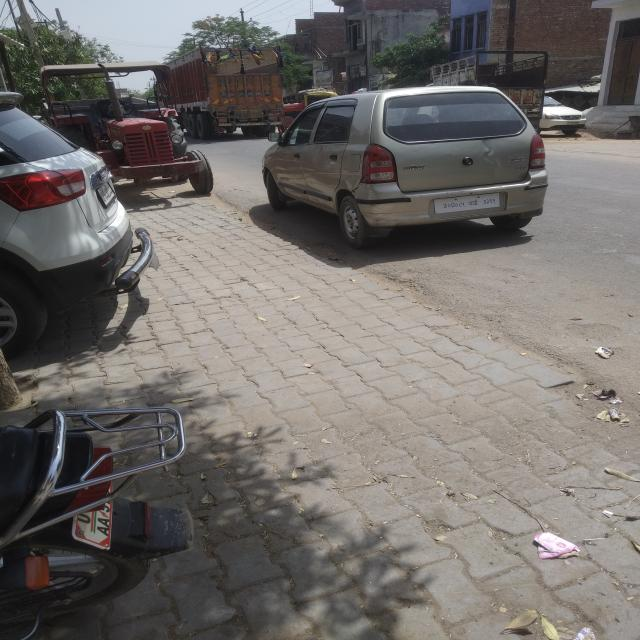Autorickshaw: (302, 85, 342, 102)
Bike: (0, 382, 231, 612)
Car: (261, 86, 553, 240), (0, 90, 153, 354), (530, 92, 587, 130)
Truck: (37, 54, 214, 190), (134, 46, 297, 133), (427, 51, 556, 122), (280, 92, 304, 127)
